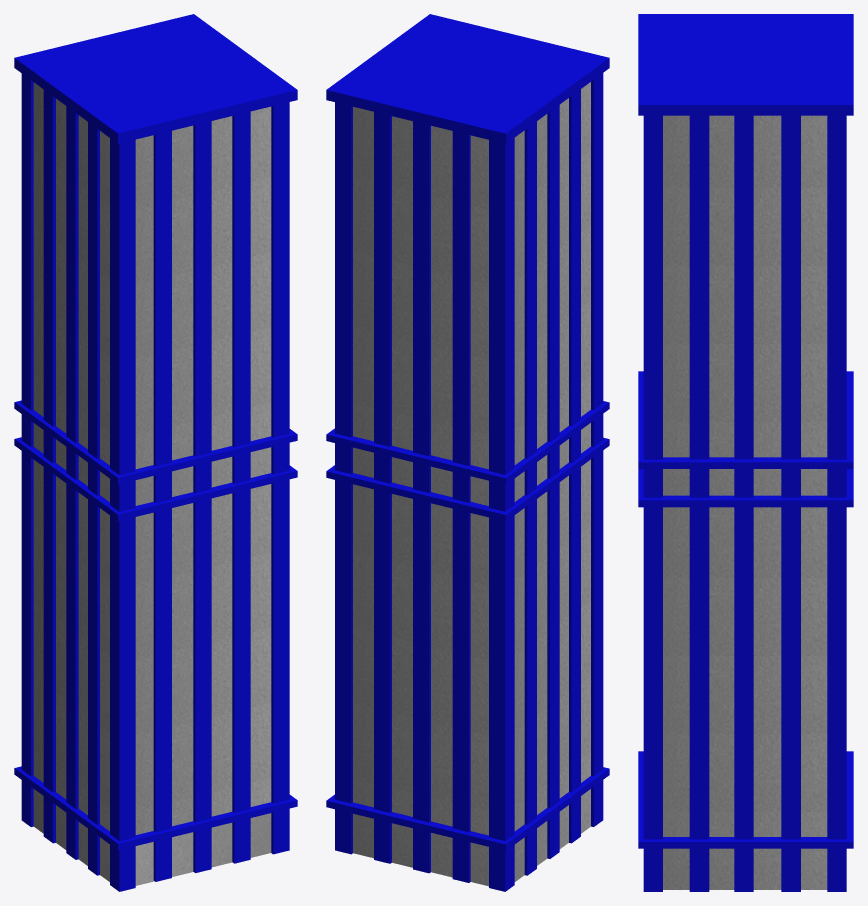
The model's file is building2.fbx.
3 views of the same model, side by side, from view 1: azimuth 30°, elevation 25°; view 2: azimuth 150°, elevation 25°; view 3: azimuth 270°, elevation 25° (orthographic). The views are drawn at different scales.
Parts seen in each view (by area): view 1: Building_18; view 2: Building_18; view 3: Building_18.
Part boxes in pixels (bbox=[...]): Building_18: bbox=[14, 14, 297, 891]; Building_18: bbox=[326, 14, 609, 891]; Building_18: bbox=[638, 14, 853, 891].
Bounding box in the file's own units: 55 × 223 × 55.
2 materials, 1 textured.
